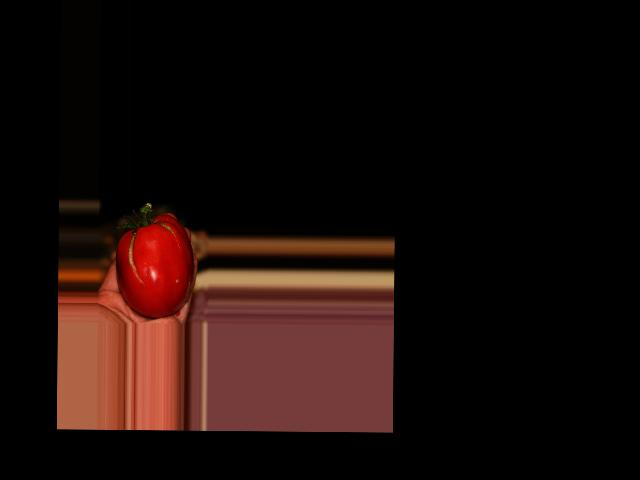tomato: (116, 213, 194, 318)
